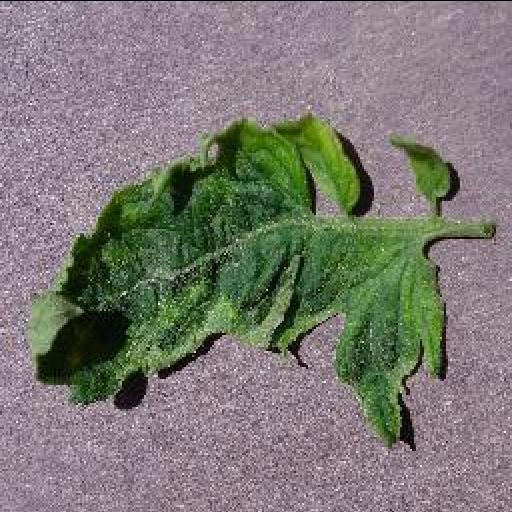disease_tomato: (32, 110, 450, 456)
